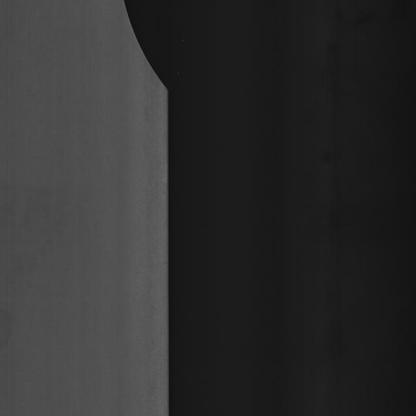crescent_gap: (95, 0, 193, 118)
